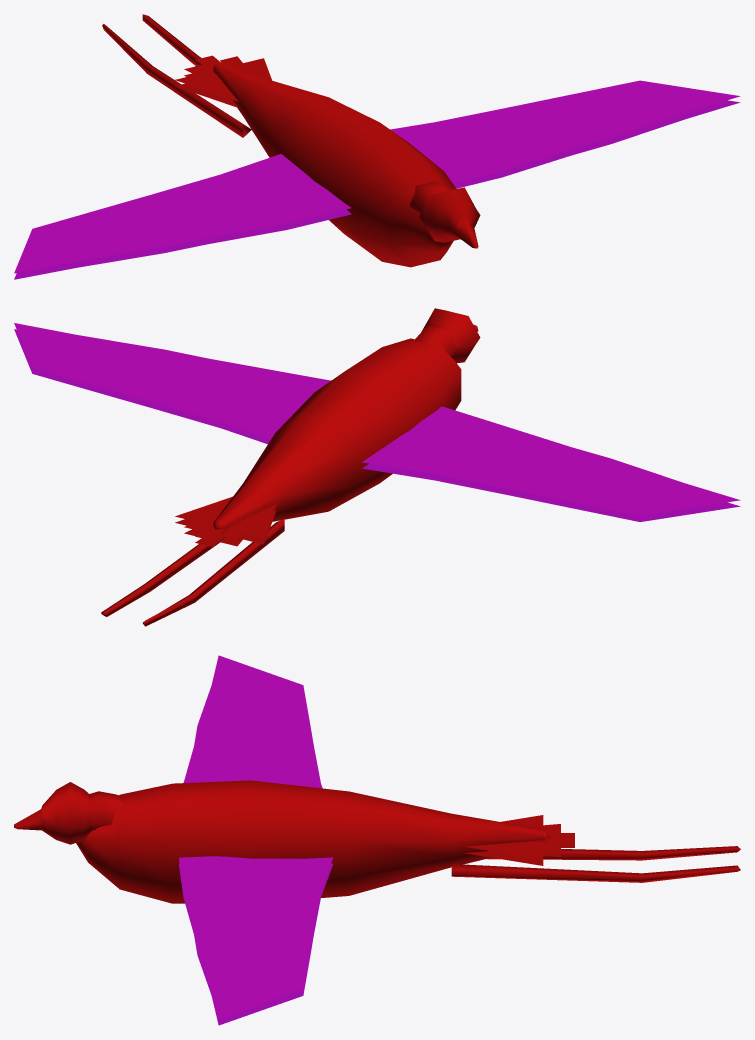
Rendered from ibis.glb.
The picture shows the model from 3 angles, top to bottom: view 1: azimuth 30°, elevation 25°; view 2: azimuth 150°, elevation 25°; view 3: azimuth 270°, elevation 25°; orthographic projection. The views are drawn at different scales.
Parts seen in each view (by area): view 1: bird; view 2: bird; view 3: bird.
Boxes of the visible parts, x1,y1,x2,y2 form: bird: (14,14,740,279); bird: (14,308,740,626); bird: (14,655,740,1025).
Size of the model in its own units: 0.9531 by 0.1289 by 0.8047.
